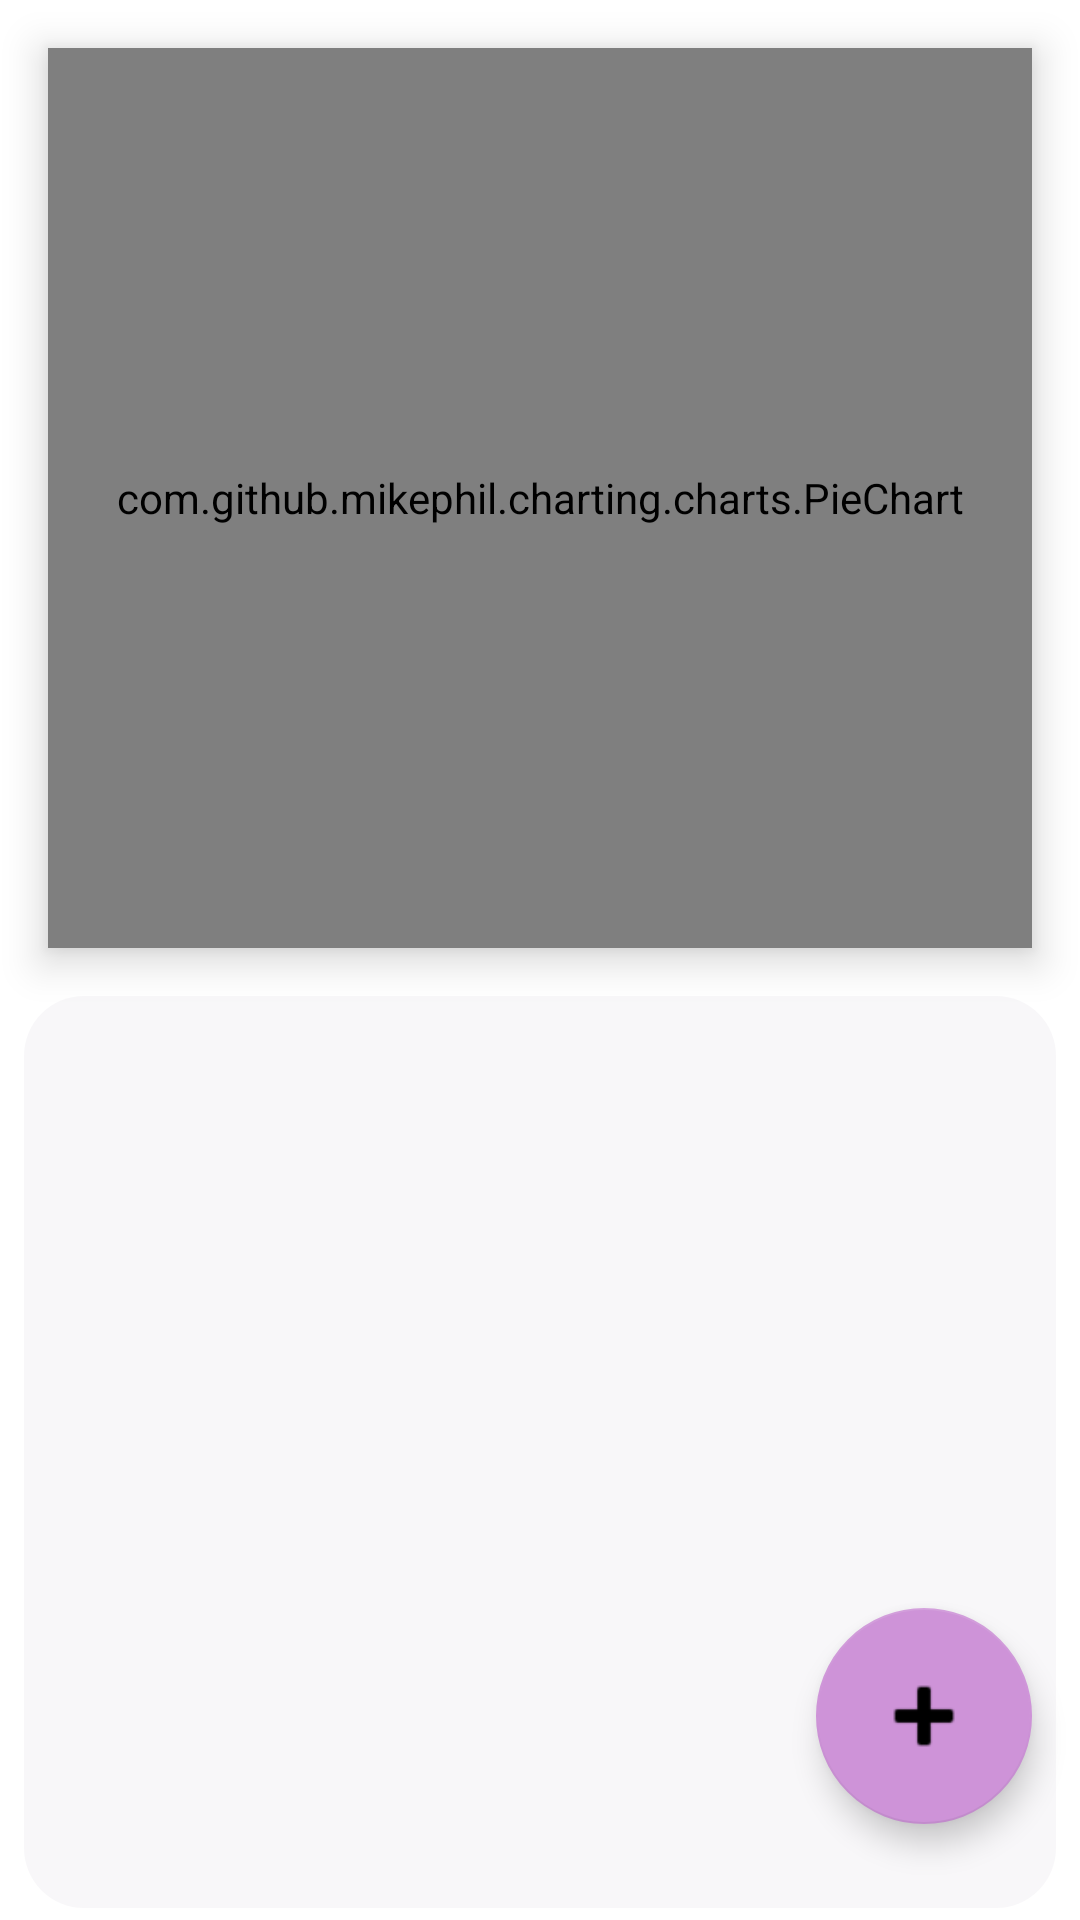

Screen size 1080*1920. Icon name, then its box in pixels as [x1,y1,x2,y2]:
botao add: [816,1608,1032,1824]
